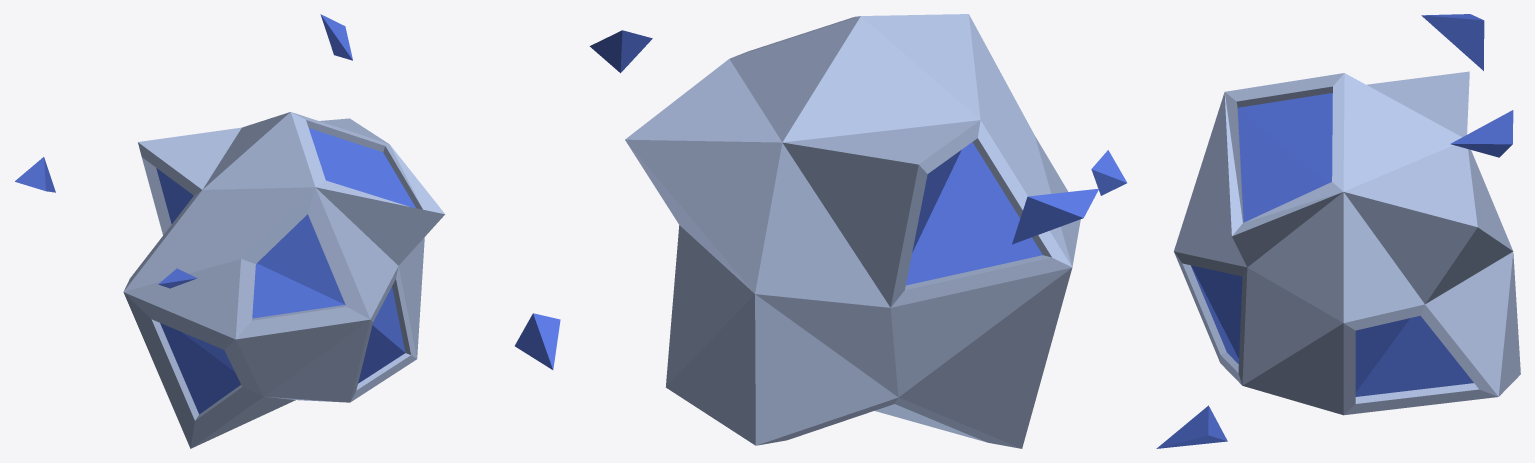
Rendered from krysztal_w_kamieniu.fbx.
The picture shows the model from 3 angles, left to right: view 1: azimuth 30°, elevation 25°; view 2: azimuth 150°, elevation 25°; view 3: azimuth 270°, elevation 25°; orthographic projection. The views are drawn at different scales.
Parts seen in each view (by area): view 1: kamien, fragmenty_krysztalu; view 2: kamien, fragmenty_krysztalu; view 3: kamien, fragmenty_krysztalu.
Boxes of the visible parts, <box> form: kamien: <box>123,112,445,448</box>; fragmenty_krysztalu: <box>15,14,560,369</box>; kamien: <box>625,14,1080,448</box>; fragmenty_krysztalu: <box>589,30,1126,244</box>; kamien: <box>1174,71,1520,415</box>; fragmenty_krysztalu: <box>1156,14,1513,448</box>.
Bounding box in the file's own units: 281 × 200 × 180.
